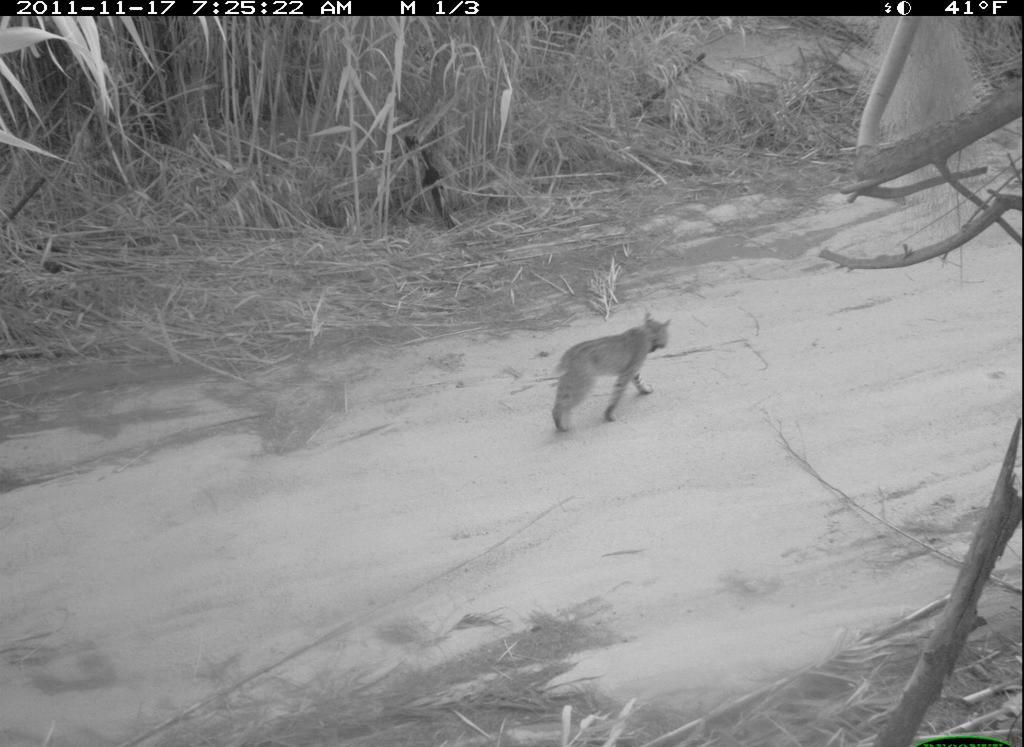bobcat: (539, 306, 681, 441)
